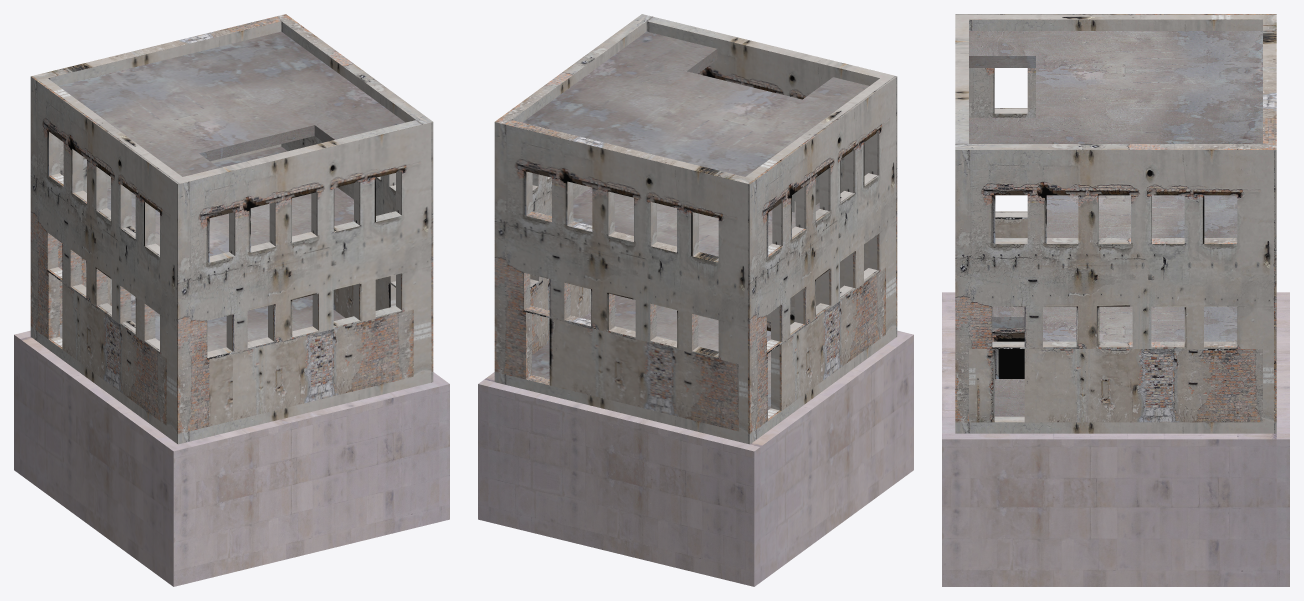
Rendered from BagBuilding23_200.fbx.
The picture shows the model from 3 angles, left to right: view 1: azimuth 30°, elevation 25°; view 2: azimuth 150°, elevation 25°; view 3: azimuth 270°, elevation 25°; orthographic projection. The views are drawn at different scales.
Visible parts, largest first — view 1: walls200, basement200, floors200; view 2: walls200, basement200, floors200; view 3: walls200, basement200, floors200.
Part boxes in pixels (bbox=[...]): walls200: bbox=[30, 14, 433, 444]; basement200: bbox=[14, 330, 449, 586]; floors200: bbox=[59, 31, 405, 351]; walls200: bbox=[494, 14, 897, 444]; basement200: bbox=[478, 330, 913, 586]; floors200: bbox=[522, 31, 868, 409]; walls200: bbox=[955, 14, 1276, 433]; basement200: bbox=[942, 292, 1289, 586]; floors200: bbox=[969, 31, 1262, 416].
Size of the model in its own units: 19.21 by 26.28 by 19.21.
